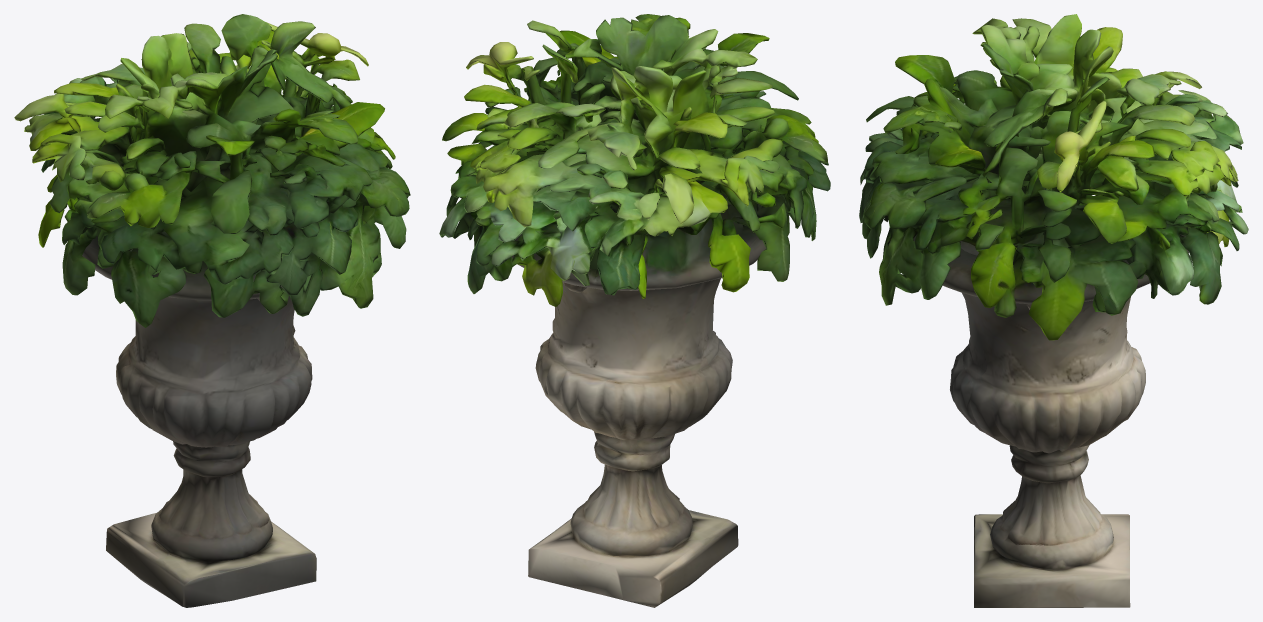
File: plaza-planter-urn.glb
3 renders of one model, left to right at view 1: azimuth 30°, elevation 25°; view 2: azimuth 150°, elevation 25°; view 3: azimuth 270°, elevation 25°, orthographic.
Visible parts, largest first — view 1: tripo_node_d3b9d2ea-a2b3-4c9b-9cff-e72eb223d161; view 2: tripo_node_d3b9d2ea-a2b3-4c9b-9cff-e72eb223d161; view 3: tripo_node_d3b9d2ea-a2b3-4c9b-9cff-e72eb223d161.
Part boxes in pixels (x1=…): tripo_node_d3b9d2ea-a2b3-4c9b-9cff-e72eb223d161: x1=14, y1=14, x2=410, y2=607; tripo_node_d3b9d2ea-a2b3-4c9b-9cff-e72eb223d161: x1=439, y1=14, x2=830, y2=607; tripo_node_d3b9d2ea-a2b3-4c9b-9cff-e72eb223d161: x1=859, y1=14, x2=1248, y2=607.
Bounding box in the file's own units: 0.9636 × 1.5 × 1.
Materials: 1 (1 with a texture image).
